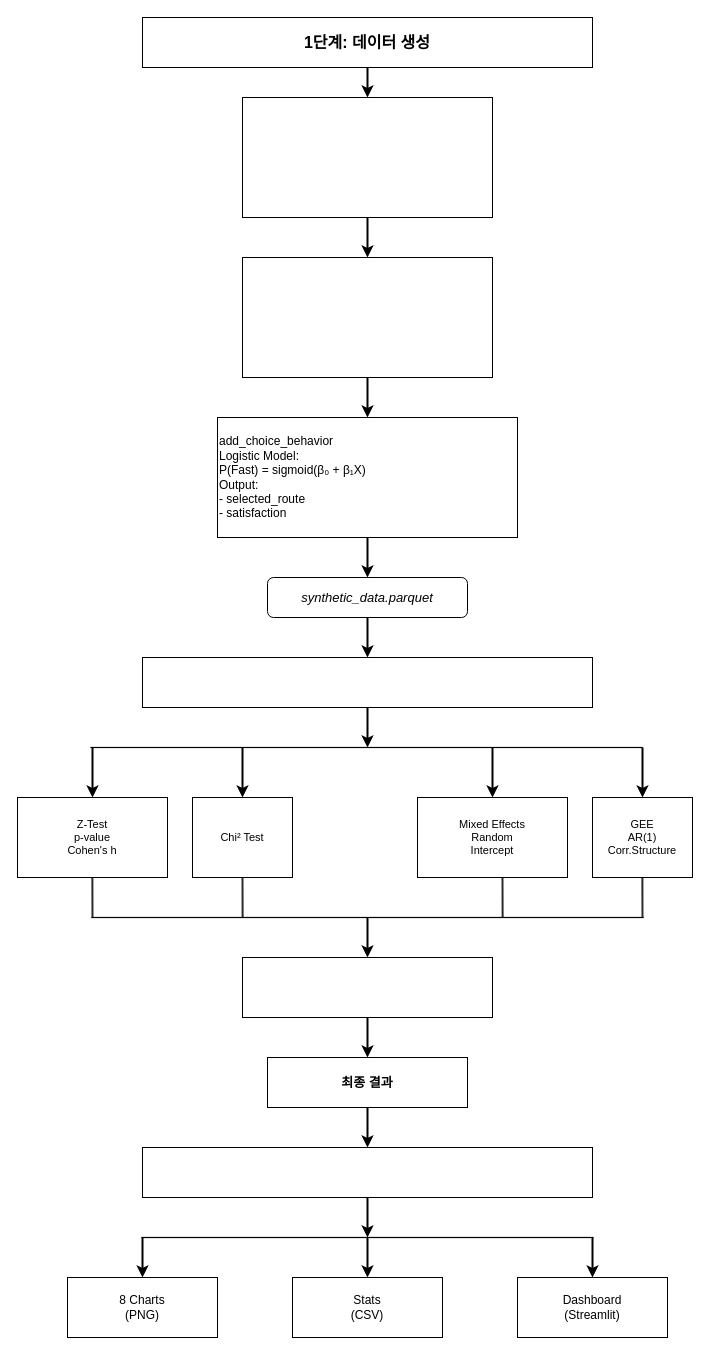
This 710x1355 diagram has some shape labels left out. The shapes that lost their labels are listed below. From the top down, each one's centre as x and y in pixels, then its label:
pixel 367 157: generate_users Output: - user_id - group (A/B) - personality - frequency
pixel 367 317: simulate_trials Output: - trial_number - time_pressure - congestion - route_time
pixel 367 682: 2단계: 통계 분석
pixel 367 987: FDR Correction (Benjamini-Hochberg)
pixel 367 1172: 3단계: 시각화
